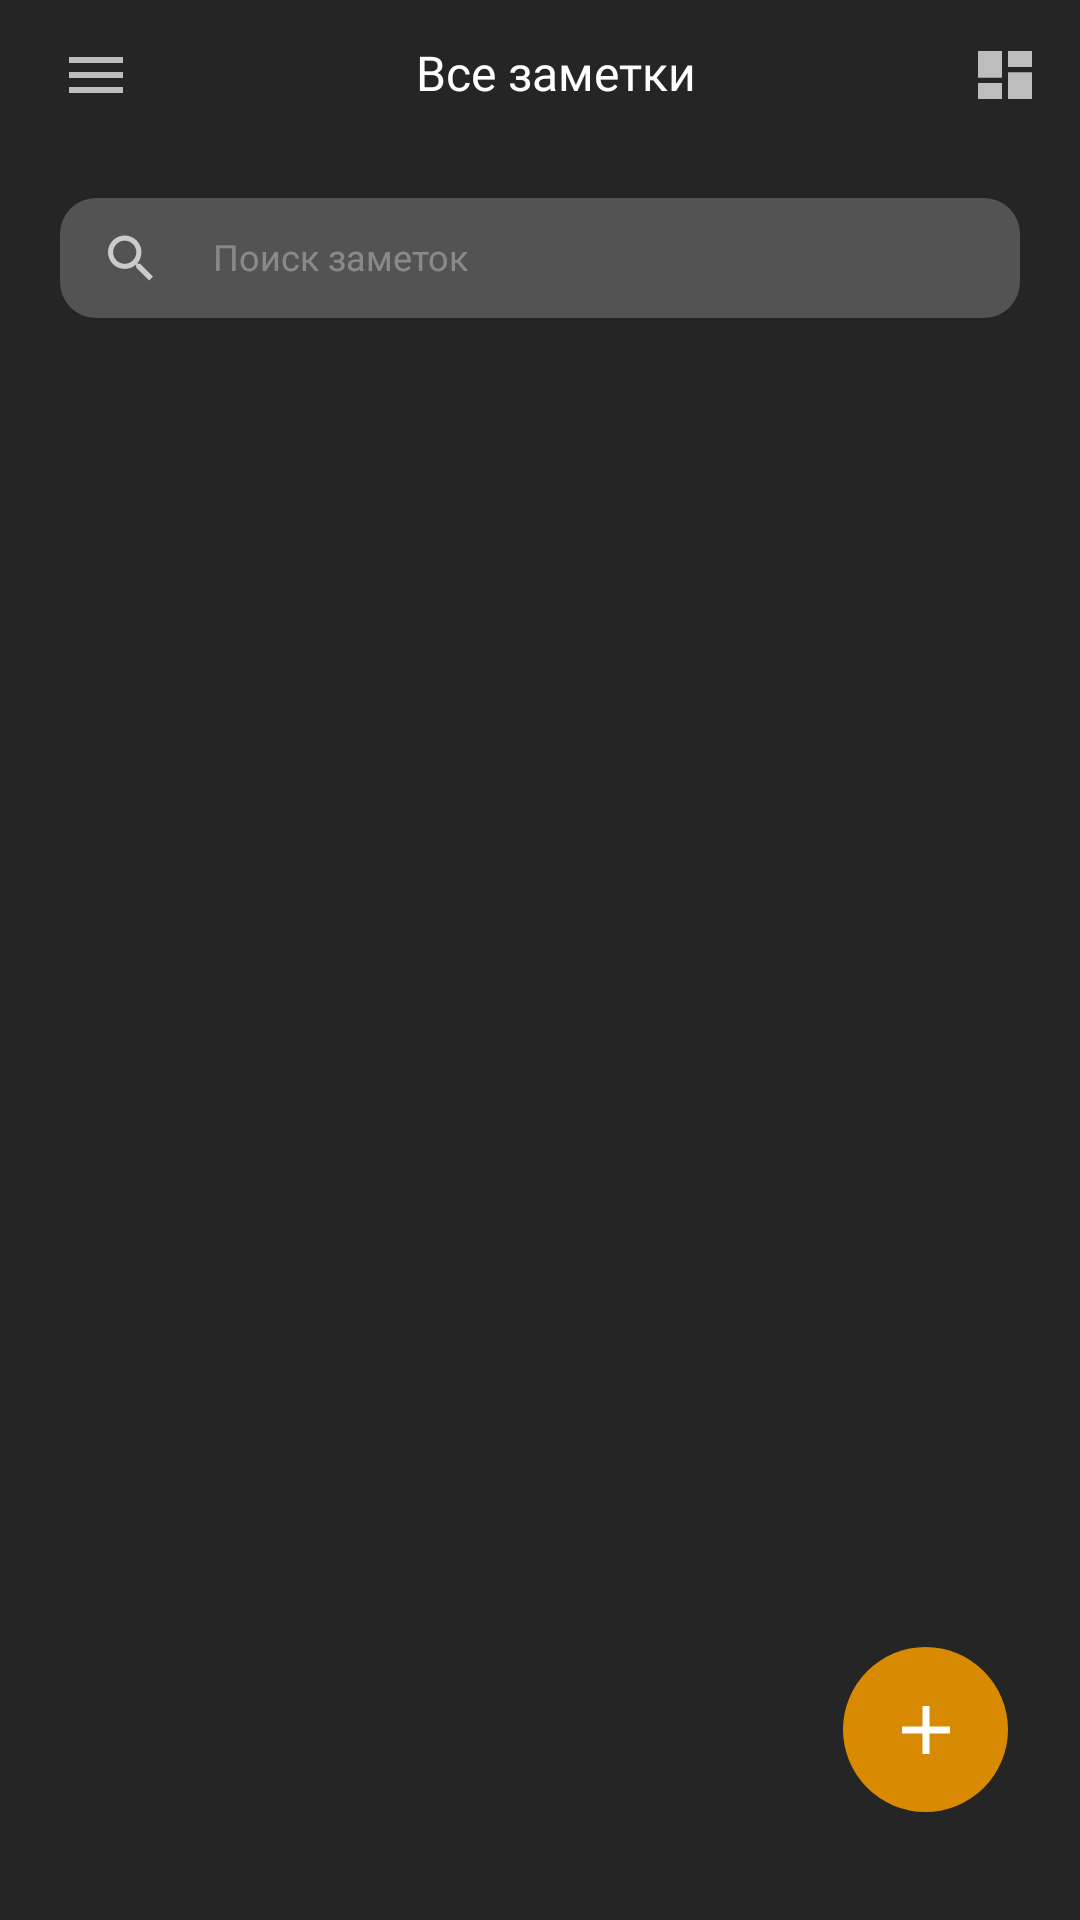

Locate icon controls on the screen. Image size 1080*1920, boxes as box(x1, y1, x2, y2).
layout grid: box(978, 51, 1032, 99)
menu: box(69, 57, 123, 93)
plus: box(843, 1647, 1008, 1812)
